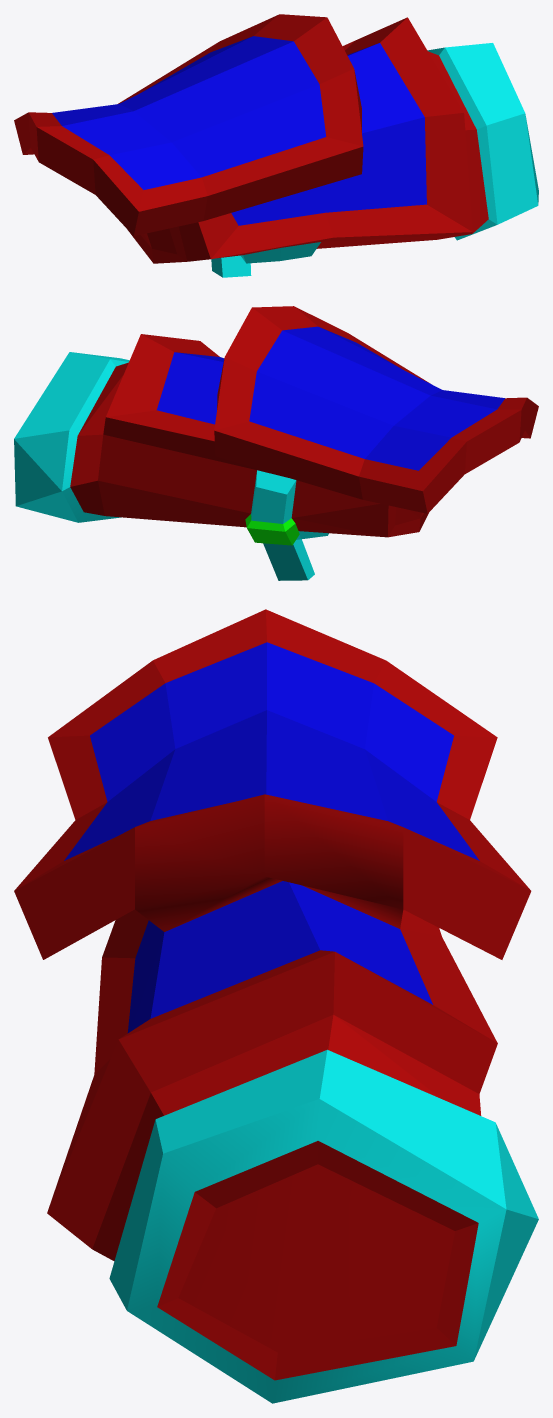
Rendered from Chr_ArmLowerRight_Male_Static_11.fbx.
3 views of the same model, one above another, from view 1: azimuth 30°, elevation 25°; view 2: azimuth 150°, elevation 25°; view 3: azimuth 270°, elevation 25° (orthographic). The views are drawn at different scales.
Visible parts, largest first — view 1: Chr_ArmLowerRight_Male_11; view 2: Chr_ArmLowerRight_Male_11; view 3: Chr_ArmLowerRight_Male_11.
Part boxes in pixels (left/top/right/bottom): Chr_ArmLowerRight_Male_11: left=14, top=14, right=538, bottom=277; Chr_ArmLowerRight_Male_11: left=14, top=306, right=538, bottom=580; Chr_ArmLowerRight_Male_11: left=14, top=609, right=538, bottom=1403.
Size of the model in its own units: 36.74 by 18.63 by 18.99.
